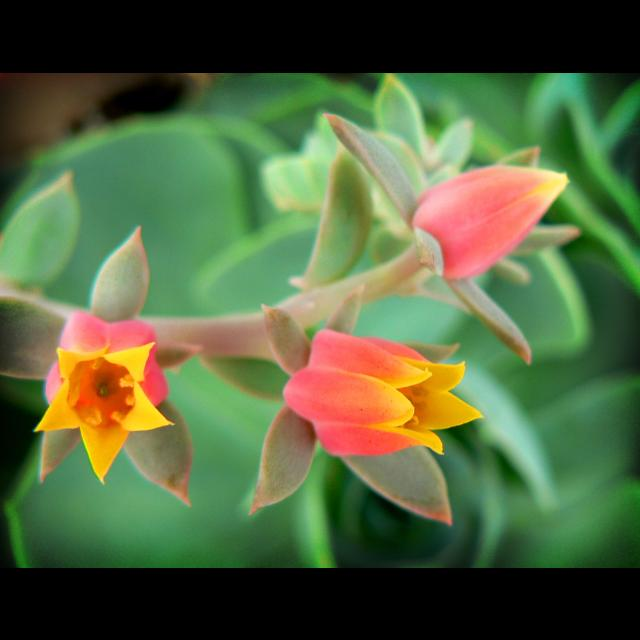Flower: (268, 324, 478, 484), (28, 304, 178, 486), (406, 170, 570, 286)
